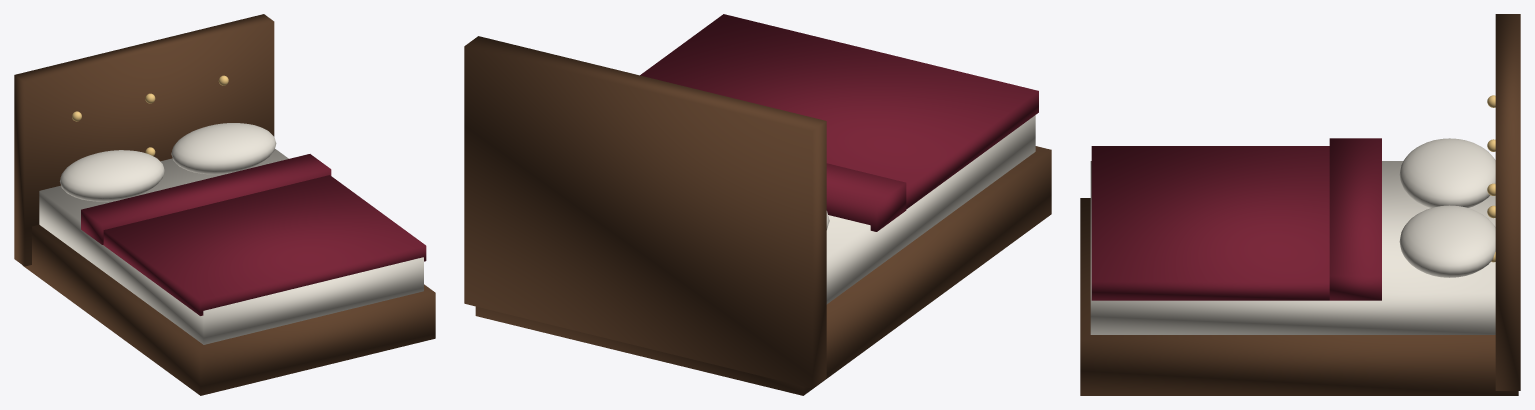
The model's file is bed.glb.
The picture shows the model from 3 angles, left to right: view 1: azimuth 30°, elevation 25°; view 2: azimuth 150°, elevation 25°; view 3: azimuth 270°, elevation 25°; orthographic projection. The views are drawn at different scales.
Visible parts, largest first — view 1: headboard, blanket, base, mattress, fold, pillow, pillow.001; view 2: headboard, blanket, base, mattress, fold; view 3: blanket, base, mattress, headboard, fold, pillow.001, pillow.
Part boxes in pixels (<box>): headboard: <box>14,14,274,266</box>; blanket: <box>103,175,426,315</box>; base: <box>22,224,435,395</box>; mattress: <box>39,149,423,344</box>; fold: <box>81,154,331,244</box>; pillow: <box>60,150,164,201</box>; pillow.001: <box>171,123,276,174</box>; headboard: <box>464,36,826,388</box>; blanket: <box>640,14,1038,209</box>; base: <box>475,146,1051,395</box>; mattress: <box>826,115,1035,304</box>; fold: <box>826,163,906,231</box>; blanket: <box>1091,146,1329,300</box>; base: <box>1080,198,1518,395</box>; mattress: <box>1090,161,1495,334</box>; headboard: <box>1495,14,1520,390</box>; fold: <box>1329,138,1381,300</box>; pillow.001: <box>1399,205,1495,277</box>; pillow: <box>1399,138,1495,207</box>.
Size of what is drawn, in the model's own units: 1.7 by 1.25 by 2.11.
